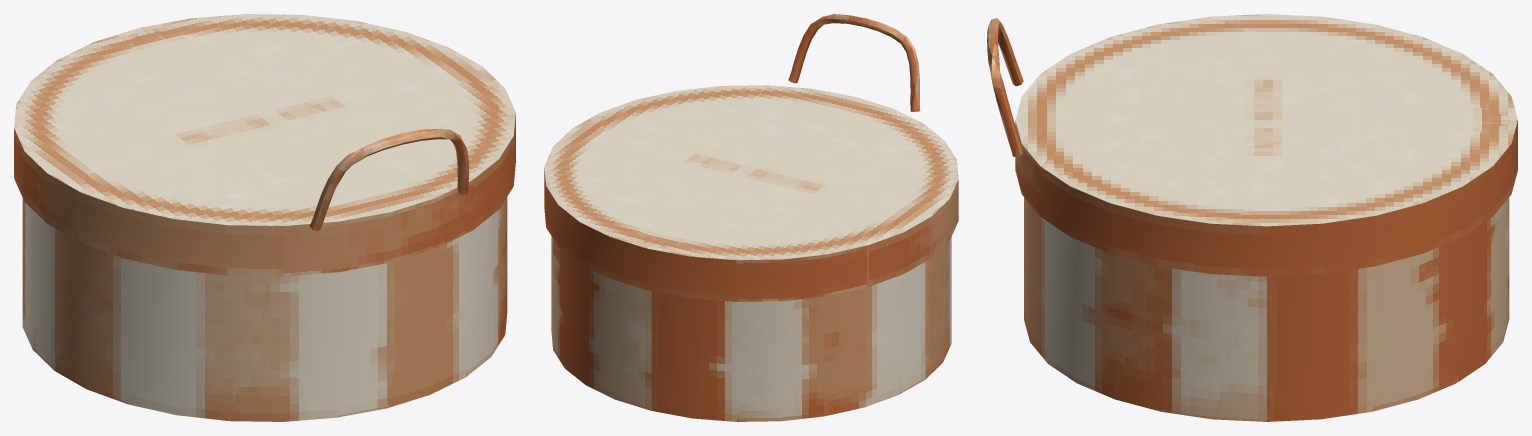
Rendered from hatbox_own.glb.
The picture shows the model from 3 angles, left to right: view 1: azimuth 30°, elevation 25°; view 2: azimuth 150°, elevation 25°; view 3: azimuth 270°, elevation 25°; orthographic projection. The views are drawn at different scales.
Parts seen in each view (by area): view 1: mesh; view 2: mesh; view 3: mesh.
Part boxes in pixels (x1=…): mesh: x1=14, y1=14, x2=515, y2=421; mesh: x1=544, y1=14, x2=958, y2=421; mesh: x1=987, y1=14, x2=1517, y2=421.
Bounding box in the file's own units: 0.3524 × 0.221 × 0.3722.
Materials: 1 (1 with a texture image).
